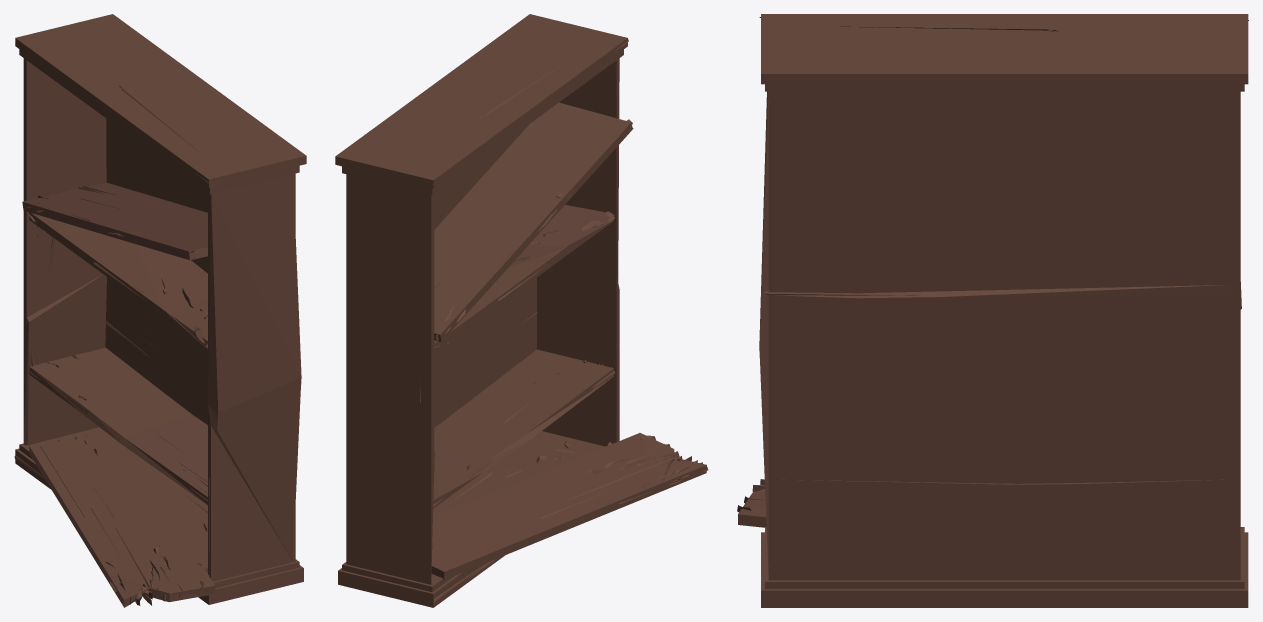
File: bookshelf.gltf
The picture shows the model from 3 angles, left to right: view 1: azimuth 30°, elevation 25°; view 2: azimuth 150°, elevation 25°; view 3: azimuth 270°, elevation 25°; orthographic projection. The views are drawn at different scales.
Visible parts, largest first — view 1: node_MeshObject-2038833152-PolyPaper21; view 2: node_MeshObject-2038833152-PolyPaper21; view 3: node_MeshObject-2038833152-PolyPaper21.
Boxes of the visible parts, x1=… form: node_MeshObject-2038833152-PolyPaper21: x1=14, y1=14, x2=306, y2=607; node_MeshObject-2038833152-PolyPaper21: x1=335, y1=14, x2=708, y2=607; node_MeshObject-2038833152-PolyPaper21: x1=737, y1=14, x2=1248, y2=607.
Size of the model in its own units: 0.6844 by 1.54 by 1.33.
